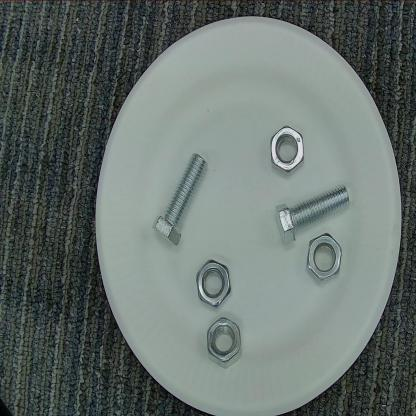FOD: (150, 149, 210, 252), (270, 182, 351, 250), (265, 123, 309, 182), (202, 314, 245, 372), (192, 256, 235, 311), (303, 230, 344, 286)
